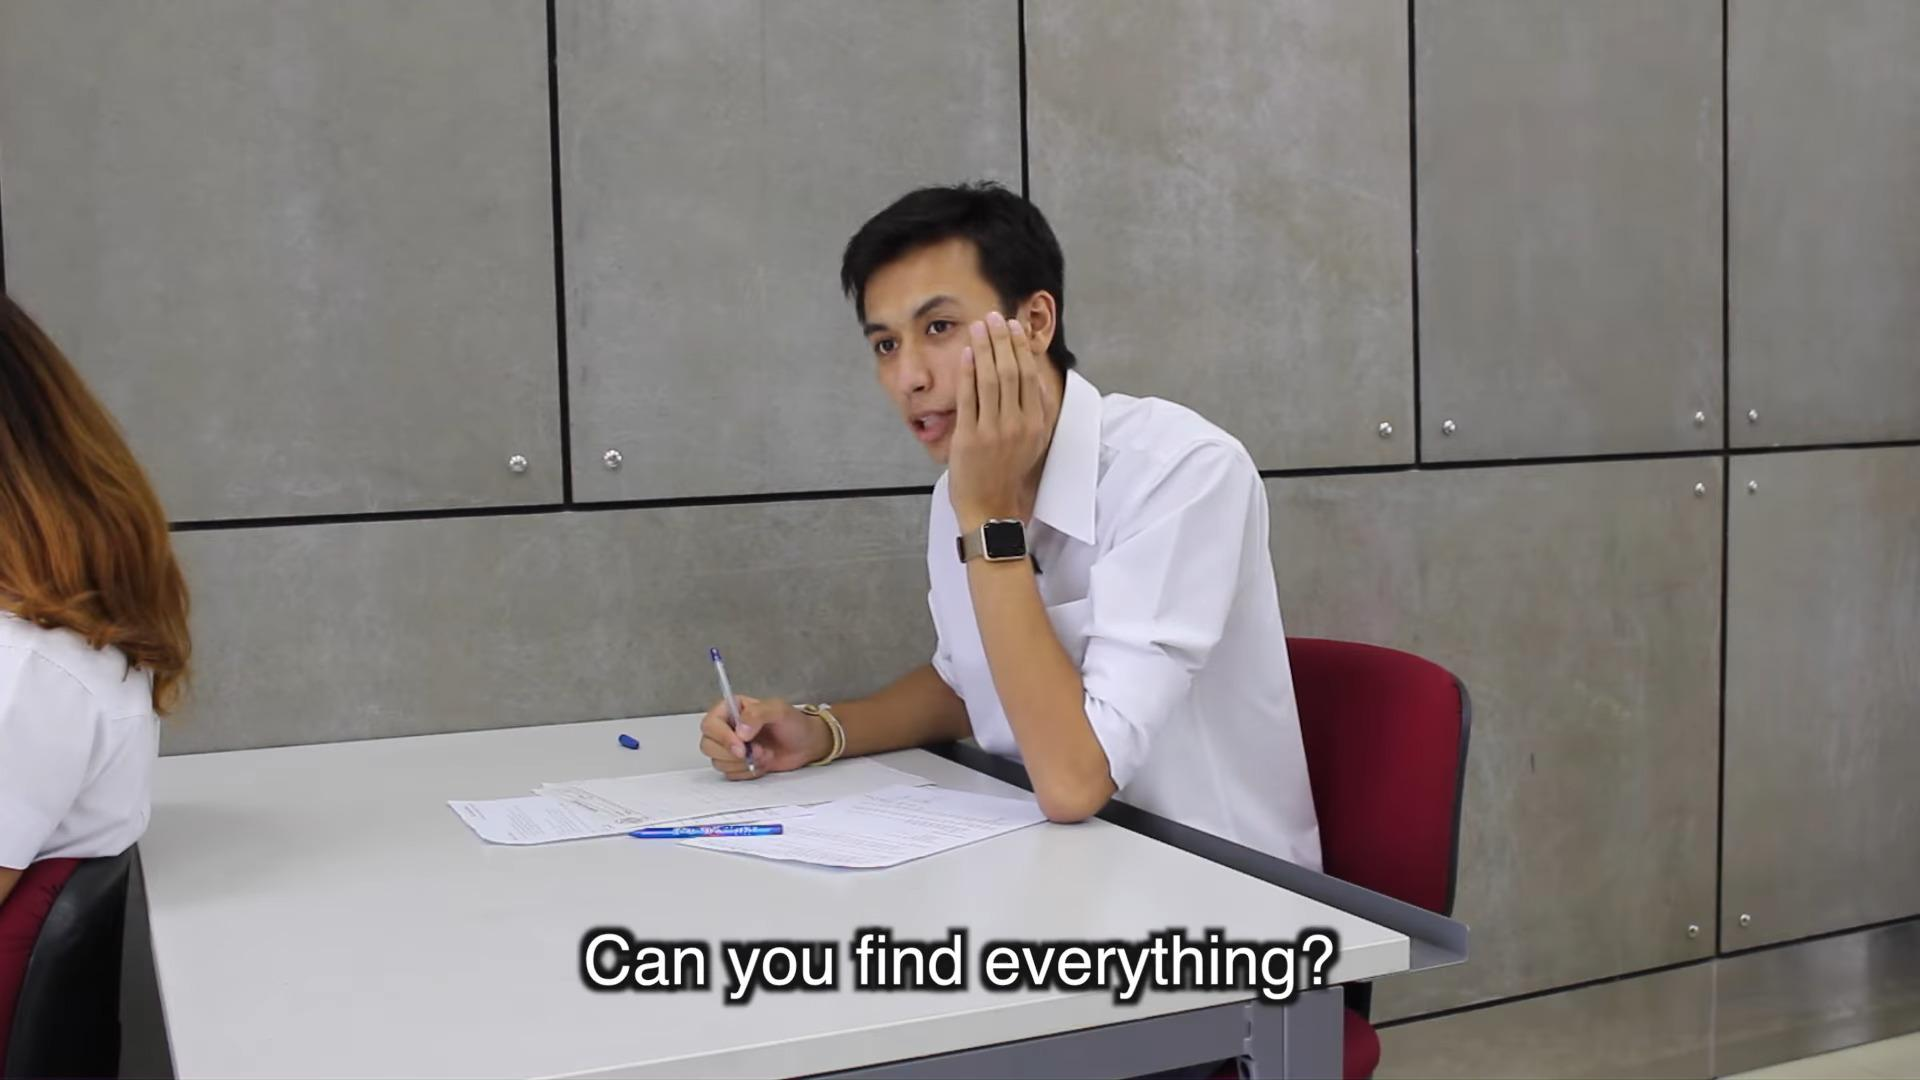cheating: (410, 170, 1356, 895)
